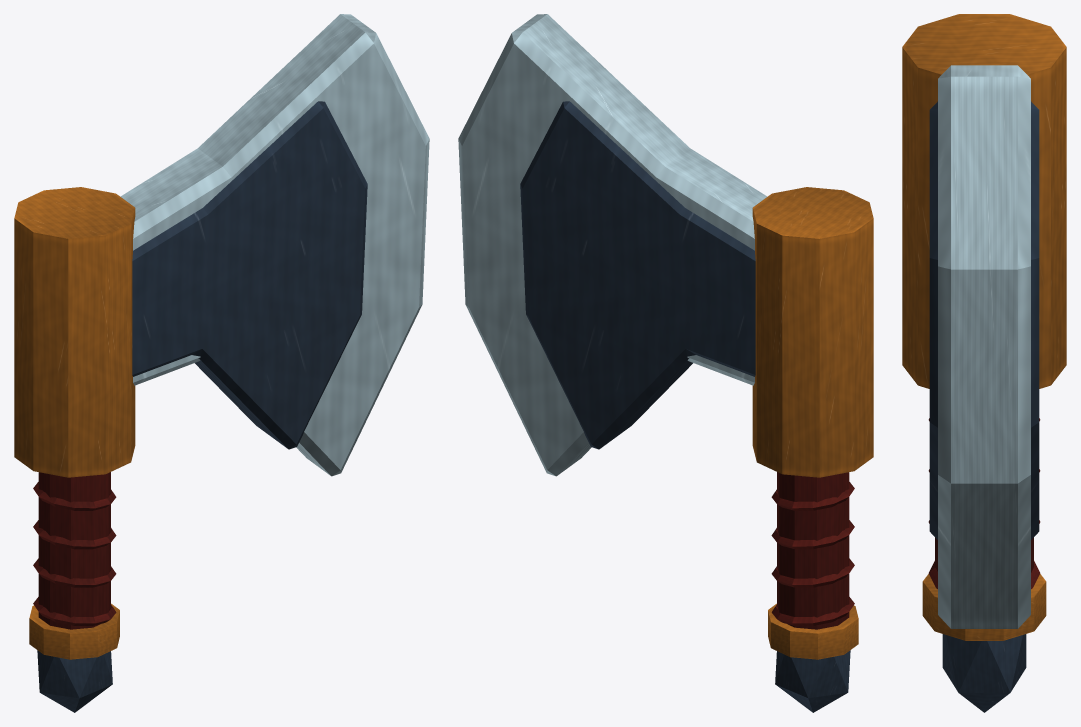
Rendered from axe-t1.glb.
3 renders of one model, left to right at view 1: azimuth 30°, elevation 25°; view 2: azimuth 150°, elevation 25°; view 3: azimuth 270°, elevation 25°, orthographic. The views are drawn at different scales.
Visible parts, largest first — view 1: Axe dark inset, Crescent cutting edge, Axe socket, Leather grip, Faceted pommel, Grip ferrule, Raised grip wrap.003, Raised grip wrap.001, Raised grip wrap.002, Raised grip wrap; view 2: Axe dark inset, Crescent cutting edge, Axe socket, Leather grip, Faceted pommel, Grip ferrule, Raised grip wrap.003, Raised grip wrap.001, Raised grip wrap.002, Raised grip wrap; view 3: Crescent cutting edge, Axe socket, Axe dark inset, Faceted pommel, Grip ferrule, Raised grip wrap.
Part boxes in pixels (bbox=[...]): Axe dark inset: bbox=[132, 101, 367, 449]; Crescent cutting edge: bbox=[120, 14, 429, 476]; Axe socket: bbox=[14, 187, 135, 477]; Leather grip: bbox=[38, 472, 110, 629]; Faceted pommel: bbox=[37, 650, 112, 712]; Grip ferrule: bbox=[29, 603, 119, 659]; Raised grip wrap.003: bbox=[33, 482, 116, 510]; Raised grip wrap.001: bbox=[33, 558, 116, 587]; Raised grip wrap.002: bbox=[33, 520, 116, 549]; Raised grip wrap: bbox=[33, 597, 116, 625]; Axe dark inset: bbox=[520, 101, 755, 449]; Crescent cutting edge: bbox=[458, 14, 767, 476]; Axe socket: bbox=[752, 187, 873, 477]; Leather grip: bbox=[777, 472, 849, 629]; Faceted pommel: bbox=[775, 650, 850, 712]; Grip ferrule: bbox=[768, 603, 858, 659]; Raised grip wrap.003: bbox=[771, 482, 854, 510]; Raised grip wrap.001: bbox=[771, 558, 854, 587]; Raised grip wrap.002: bbox=[771, 520, 854, 549]; Raised grip wrap: bbox=[771, 597, 854, 625]; Crescent cutting edge: bbox=[938, 65, 1030, 628]; Axe socket: bbox=[902, 14, 1066, 388]; Axe dark inset: bbox=[929, 101, 1039, 539]; Faceted pommel: bbox=[942, 634, 1026, 712]; Grip ferrule: bbox=[922, 574, 1046, 640]; Raised grip wrap: bbox=[928, 561, 1040, 588].
Size of the model in its own units: 0.5954 by 0.9 by 0.162.
1 material, 1 textured.
